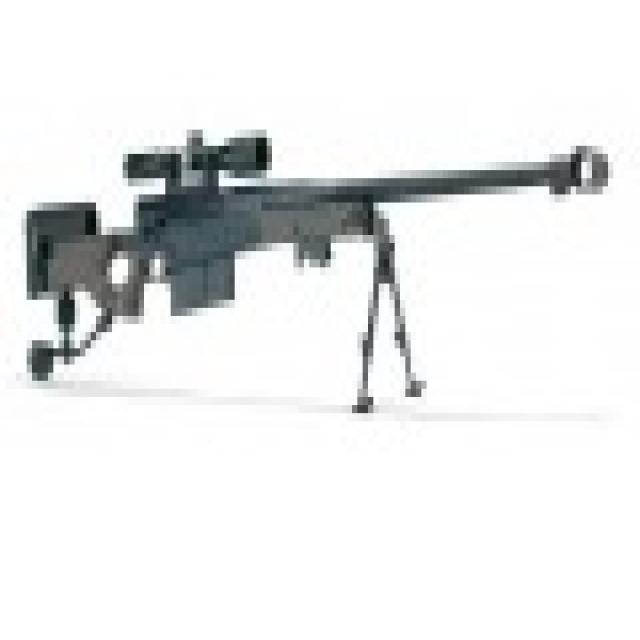Gun: (36, 98, 616, 390)
